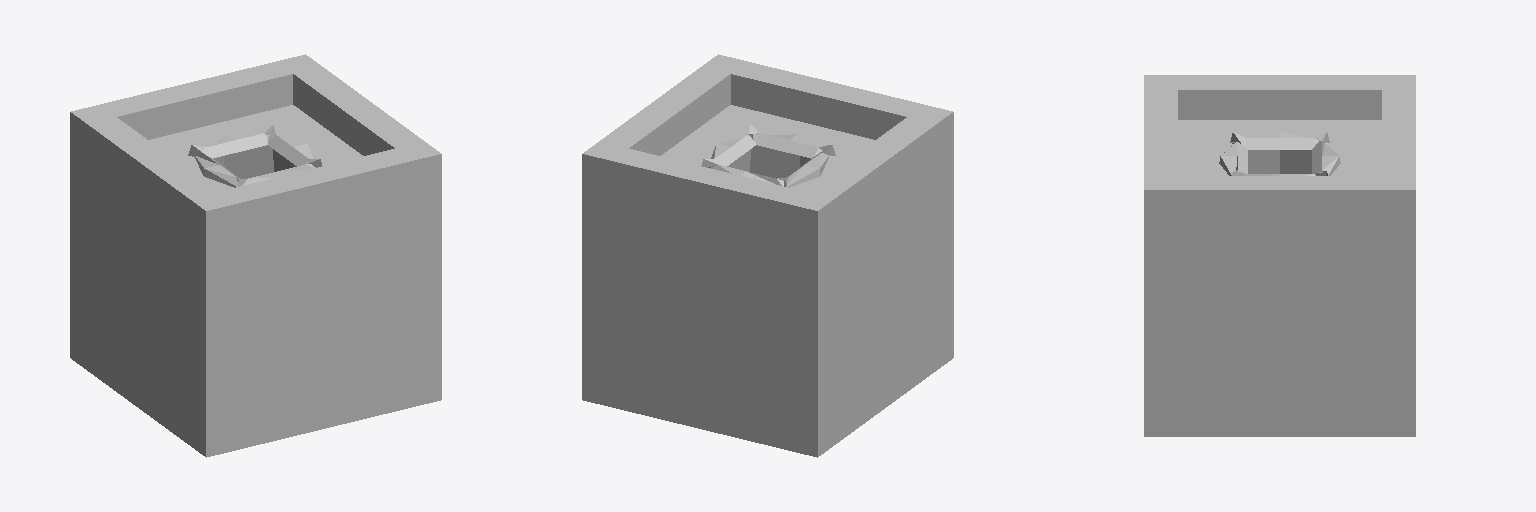
File: PotionSpreader.obj
3 views of the same model, side by side, from view 1: azimuth 30°, elevation 25°; view 2: azimuth 150°, elevation 25°; view 3: azimuth 270°, elevation 25° (orthographic).
Parts seen in each view (by area): view 1: pCube1; view 2: pCube1; view 3: pCube1.
Boxes of the visible parts, box(x1,y1,x2,y2) form: pCube1: box(70, 54, 441, 457); pCube1: box(582, 54, 953, 457); pCube1: box(1144, 75, 1415, 436).
Bounding box in the file's own units: 1 × 1 × 1.